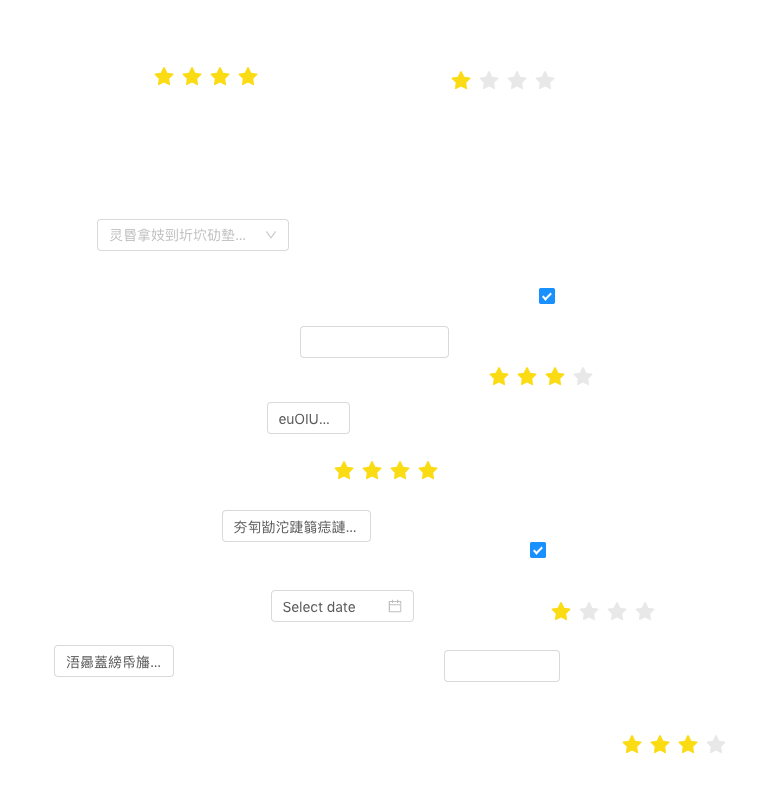Checkbox: (530, 539, 546, 560), (539, 285, 555, 306)
DatePicker: (271, 590, 414, 622)
Input: (222, 510, 371, 542), (300, 326, 449, 358), (444, 650, 589, 682), (54, 645, 174, 677), (267, 402, 350, 434)
Rate: (622, 728, 742, 760), (551, 595, 671, 627), (489, 360, 609, 392), (154, 60, 274, 92), (451, 64, 571, 96), (334, 454, 454, 486)
Select: (97, 219, 289, 251)
